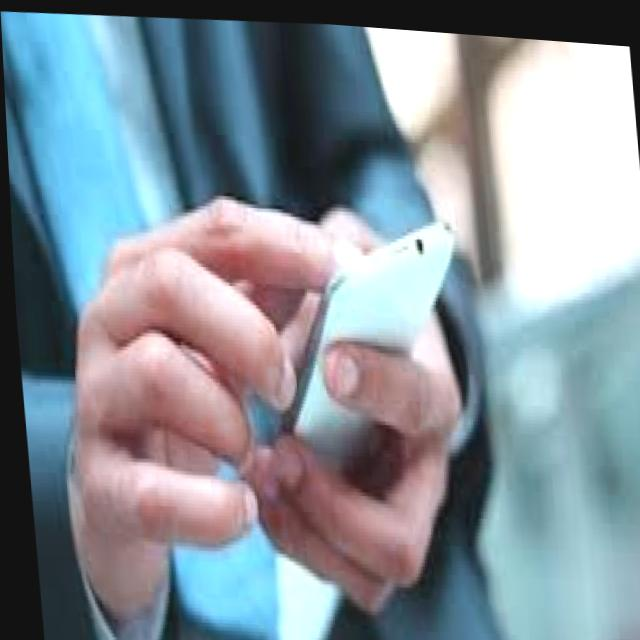Smartphone: (277, 195, 453, 508)
